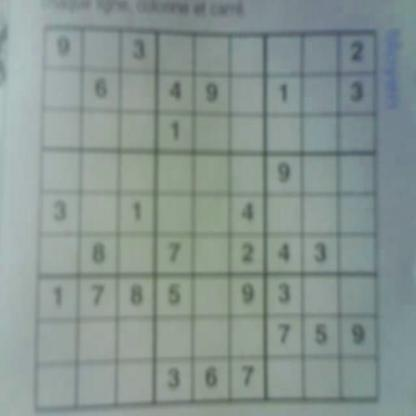sudoku: (30, 19, 384, 413)
